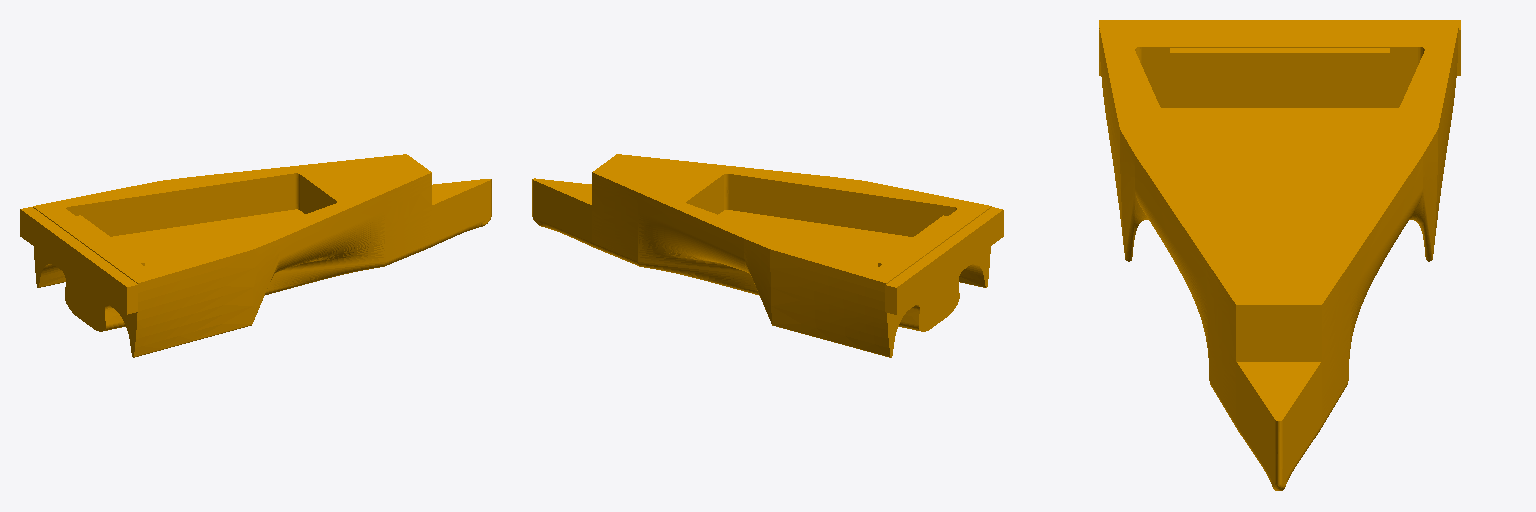
robot.urdf — bluedragon:
<?xml version="1.0"?>


<robot name="bluedragon">


 <link name="base_footprint">
  <visual>
   <geometry>
    <mesh filename="package://bluedragon_description/urdf/bluedragon.dae"/>
   </geometry>
  </visual>
  <collision>
    <geometry>
     <mesh filename="package://bluedragon_description/urdf/bluedragon.dae"/>
    </geometry>
  </collision>
  <inertial>
   <mass value="15.0"/>
   <origin xyz="0 0 0"/>
   <inertia ixx="1" ixy="1" ixz="0" iyy="1" iyz="0" izz="1" />
  </inertial> 
 </link>


 <link name="laser_link">
  <visual>
    <geometry>
     <mesh filename="package://bluedragon_description/meshes/hokuyo.dae"/>
    </geometry>
   <origin xyz="0.0 0.0 0.0" rpy="0.0 0.0 0.0" />
  </visual>
    <inertial>
      <mass value="0.000001" />
      <origin xyz="0 0 0" />
      <inertia ixx="0.0001" ixy="0.0" ixz="0.0"
        iyy="0.0001" iyz="0.0"
        izz="0.0001" />
    </inertial>
 </link>
 <joint name="laser_joint" type="fixed">
  <origin xyz="0.0 0.0 0.0" rpy="0.0 0.0 0.0" />
  <parent link="base_footprint"/>
  <child link="laser_link"/>
 </joint>



 <link name="ultrasound1_link">
  <visual>
    <geometry>
     <cylinder length="0.02" radius="0.01"/>
    </geometry>
   <origin xyz="0.0 0.0 0.0" rpy="0.0 0.0 0.0" />
  </visual>
    <inertial>
      <mass value="0.000001" />
      <origin xyz="0 0 0" />
      <inertia ixx="0.0001" ixy="0.0" ixz="0.0"
        iyy="0.0001" iyz="0.0"
        izz="0.0001" />
    </inertial>
 </link>
 <joint name="ultrasound1_joint" type="fixed">
  <origin xyz="0.0 0.0 0.0" rpy="0.0 0.0 0.0" />
  <parent link="base_footprint"/>
  <child link="ultrasound1_link"/>
 </joint>

 <link name="ultrasound2_link">
  <visual>
    <geometry>
     <cylinder length="0.02" radius="0.01"/>
    </geometry>
   <origin xyz="0.0 0.0 0.0" rpy="0.0 0.0 0.0" />
  </visual>
    <inertial>
      <mass value="0.000001" />
      <origin xyz="0 0 0" />
      <inertia ixx="0.0001" ixy="0.0" ixz="0.0"
        iyy="0.0001" iyz="0.0"
        izz="0.0001" />
    </inertial>
 </link>
 <joint name="ultrasound2_joint" type="fixed">
  <origin xyz="0.0 0.0 0.0" rpy="0.0 0.0 0.0" />
  <parent link="base_footprint"/>
  <child link="ultrasound2_link"/>
 </joint>
</robot>

--- Render facts (derived) ---
3 views of the same robot in one strip: view 1: azimuth 30°, elevation 25°; view 2: azimuth 150°, elevation 25°; view 3: azimuth 270°, elevation 25° (orthographic).
Model bluedragon with 4 links and 3 joints (3 fixed), rooted at base_footprint, posed all joints at 0.
Links seen in each view (by area): view 1: base_footprint; view 2: base_footprint; view 3: base_footprint.
Link boxes in pixels (x1=…): base_footprint: x1=20, y1=154, x2=491, y2=357; base_footprint: x1=532, y1=154, x2=1003, y2=357; base_footprint: x1=1099, y1=20, x2=1460, y2=490.
Bounding box of the posed robot: 0.8836 × 0.3914 × 0.1666 m (x, y, z).
2 mesh visuals loaded from 2 distinct referenced files (2 Collada DAE).